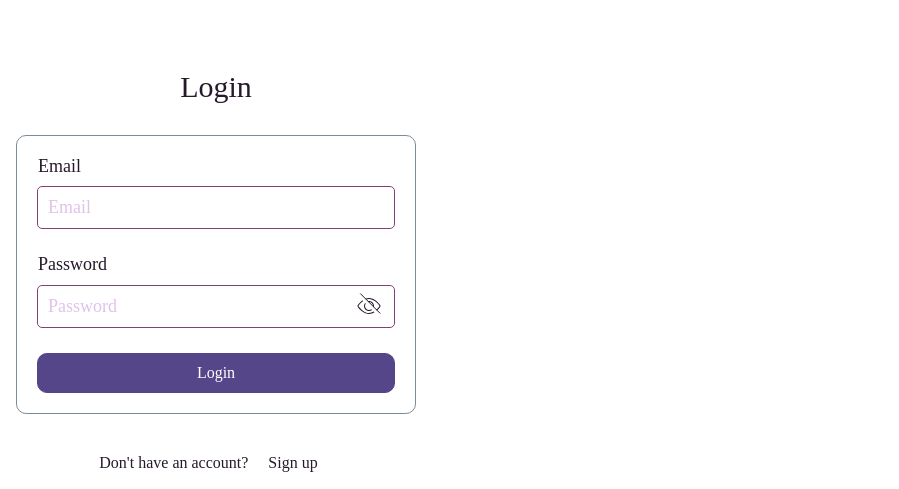
it: AuthForm Component › handles form submissions for the scenario where a password is wrong
Type "incorrect_password@example.com" into the field labelled "Email" at x=216, y=208, box [38,187,394,228]
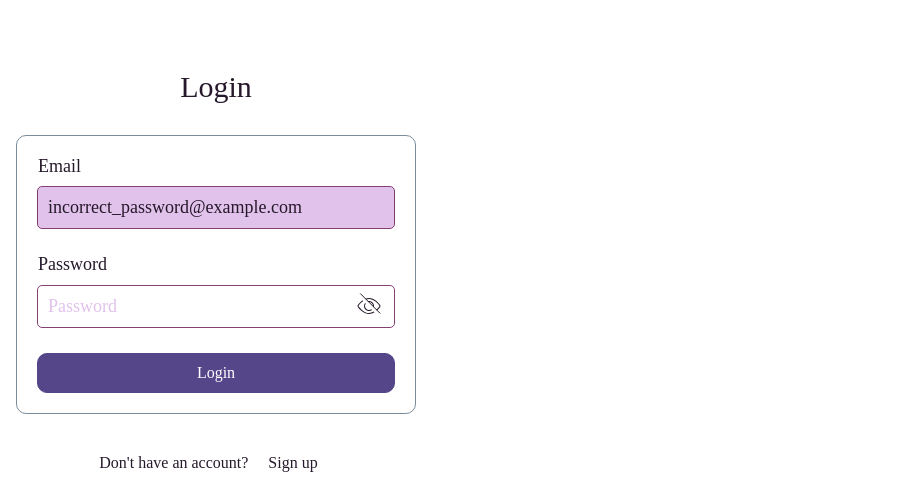
Type "incorrectPassword123!" into the password field labelled "Password" at x=191, y=306, box [38,286,344,327]
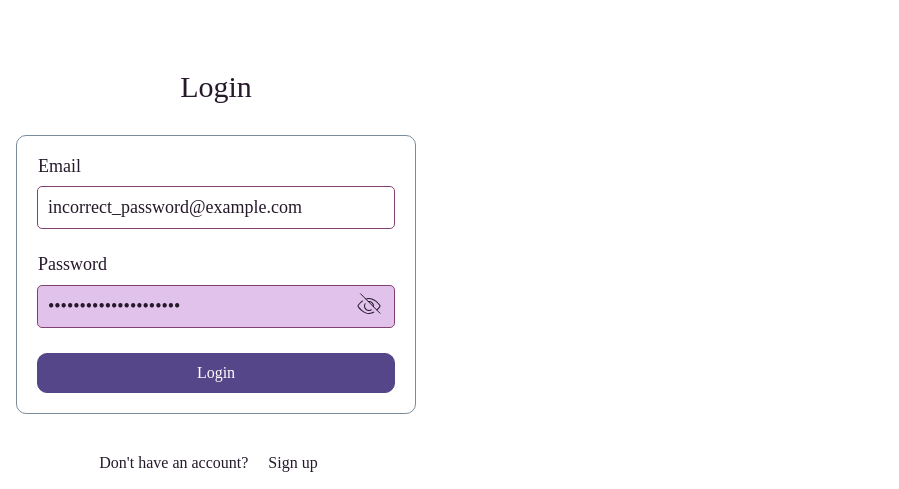
Click the button "Login" at x=216, y=373, box [37,353,395,393]
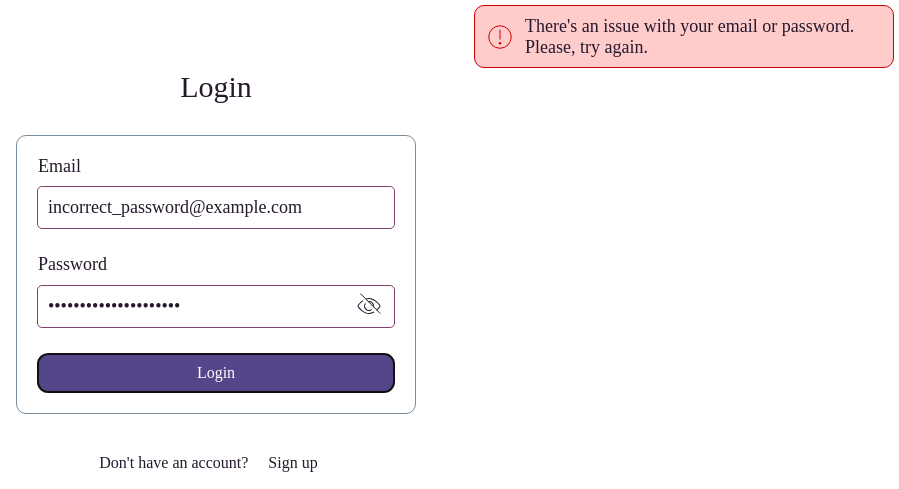
Now the picture with alt text "notification" is shown, box [485,22,515,52]
Now the text "There's an issue with your email or password. Please, try again." is shown, box [525,16,883,57]
